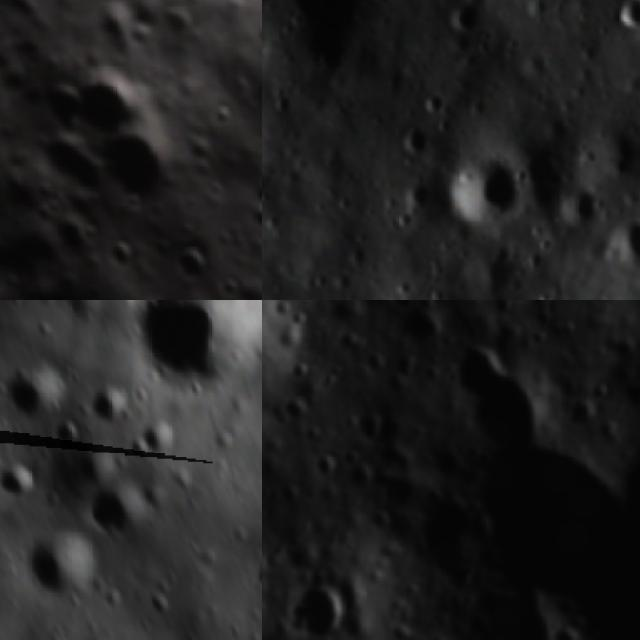crater: (126, 300, 262, 403), (87, 109, 196, 222), (56, 54, 156, 156), (442, 138, 534, 233), (17, 530, 119, 609), (1, 361, 63, 430), (88, 482, 146, 555), (36, 204, 101, 266), (462, 236, 523, 299), (553, 173, 612, 231), (293, 583, 350, 640), (598, 206, 640, 277), (165, 238, 219, 293), (149, 0, 206, 51), (100, 230, 146, 280), (0, 460, 50, 504), (83, 387, 136, 427), (73, 451, 117, 499), (447, 0, 499, 40), (140, 420, 184, 462), (399, 120, 442, 160), (401, 176, 437, 213), (341, 463, 378, 499), (51, 419, 86, 457), (209, 268, 250, 300), (358, 413, 387, 449), (612, 0, 640, 35), (273, 393, 309, 420), (241, 195, 262, 240), (243, 172, 262, 218), (584, 378, 614, 407), (275, 482, 304, 508), (423, 317, 445, 341), (287, 363, 314, 382), (251, 148, 262, 192), (288, 310, 308, 331), (268, 300, 295, 315)
